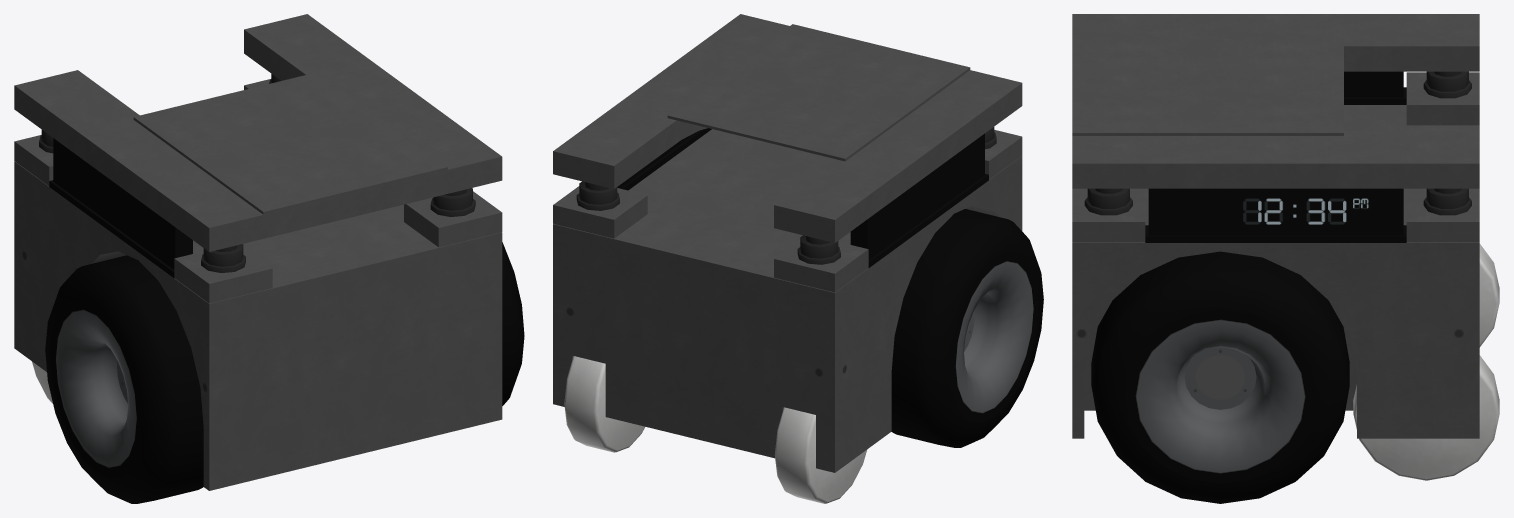
Rendered from disinfectionRobot.glb.
3 renders of one model, left to right at view 1: azimuth 30°, elevation 25°; view 2: azimuth 150°, elevation 25°; view 3: azimuth 270°, elevation 25°, orthographic. The views are drawn at different scales.
Visible parts, largest first — view 1: disinfectionRobot; view 2: disinfectionRobot; view 3: disinfectionRobot.
Boxes of the visible parts, bbox=[...] form: disinfectionRobot: bbox=[14, 14, 524, 503]; disinfectionRobot: bbox=[553, 14, 1043, 503]; disinfectionRobot: bbox=[1072, 14, 1499, 503].
Bounding box in the file's own units: 0.9874 × 0.7936 × 0.9267.
1 material, 1 textured.
